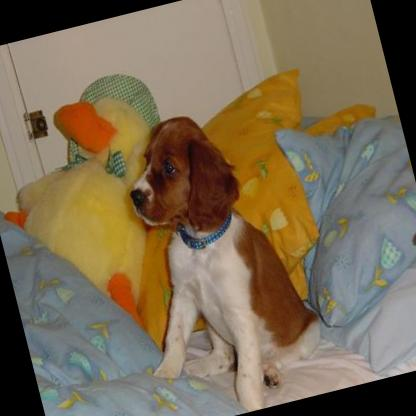Welsh_springer_spaniel: (92, 93, 337, 416)
